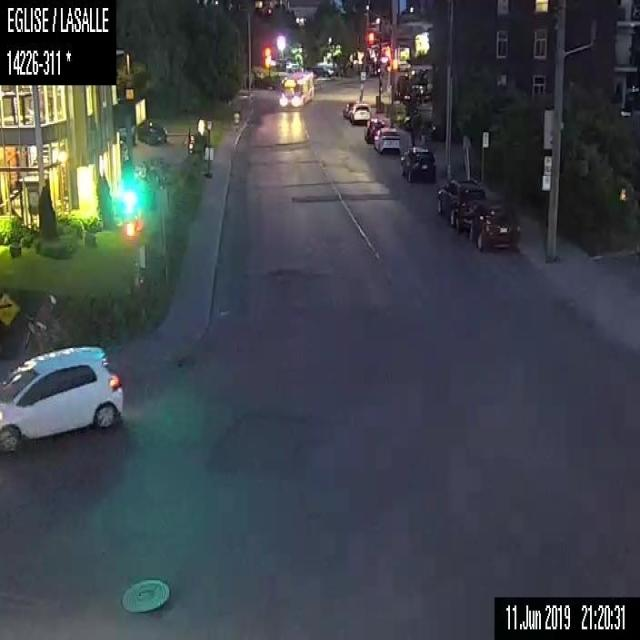bus: (278, 69, 314, 109)
vehicle: (0, 344, 124, 456), (465, 202, 522, 252), (436, 175, 486, 231), (399, 144, 436, 183), (137, 119, 168, 148), (373, 126, 400, 154), (364, 117, 386, 143), (349, 101, 371, 124), (309, 65, 333, 78), (342, 101, 354, 116)
